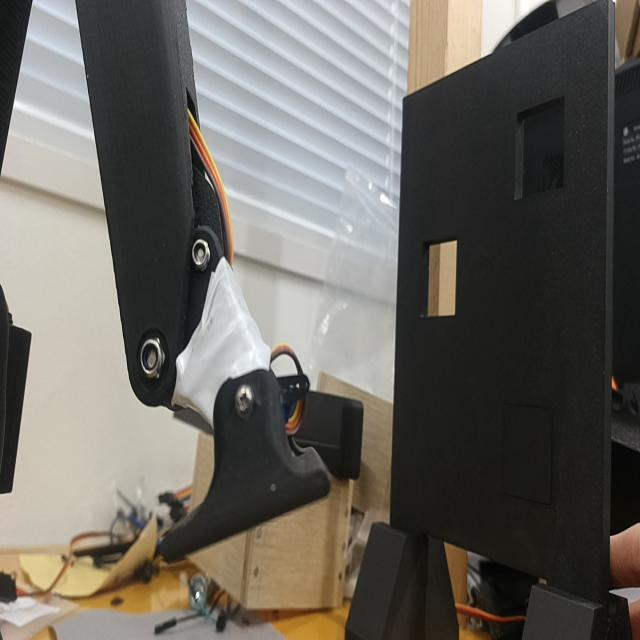Obstacle: (515, 97, 565, 197), (423, 239, 459, 319)
Wall: (390, 0, 604, 589)
